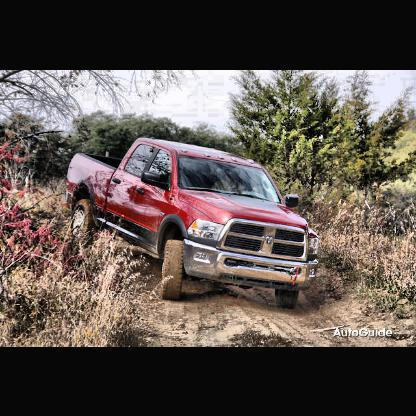Dodge Ram Pickup 3500 Crew Cab 2010: (64, 135, 322, 309)
